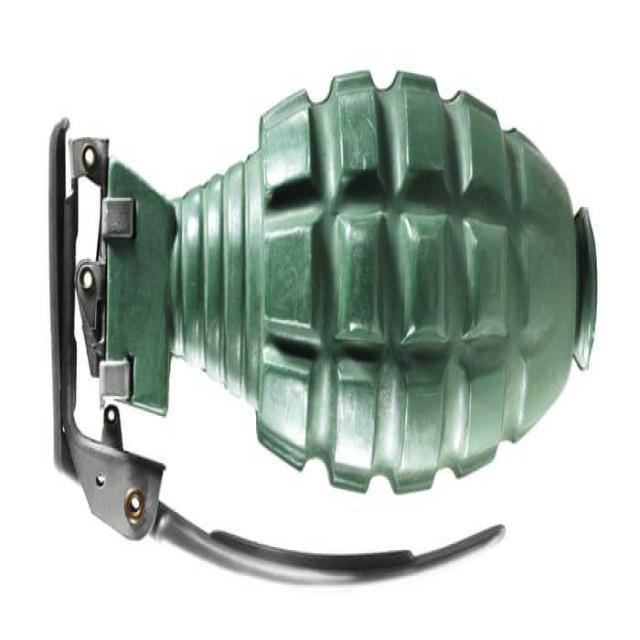grenade: (41, 60, 604, 591)
